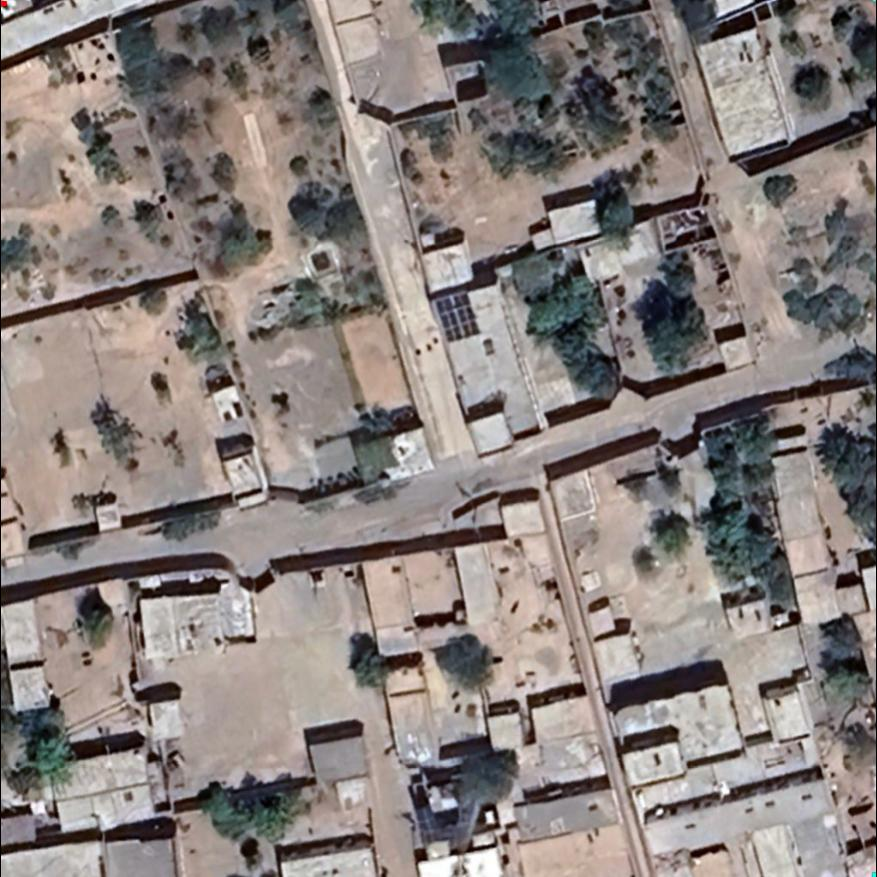Solarpanel: (427, 285, 484, 349)
